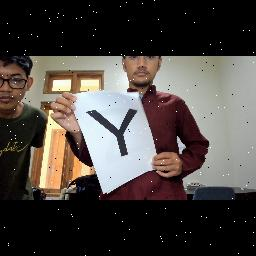y: (82, 106, 142, 160)
